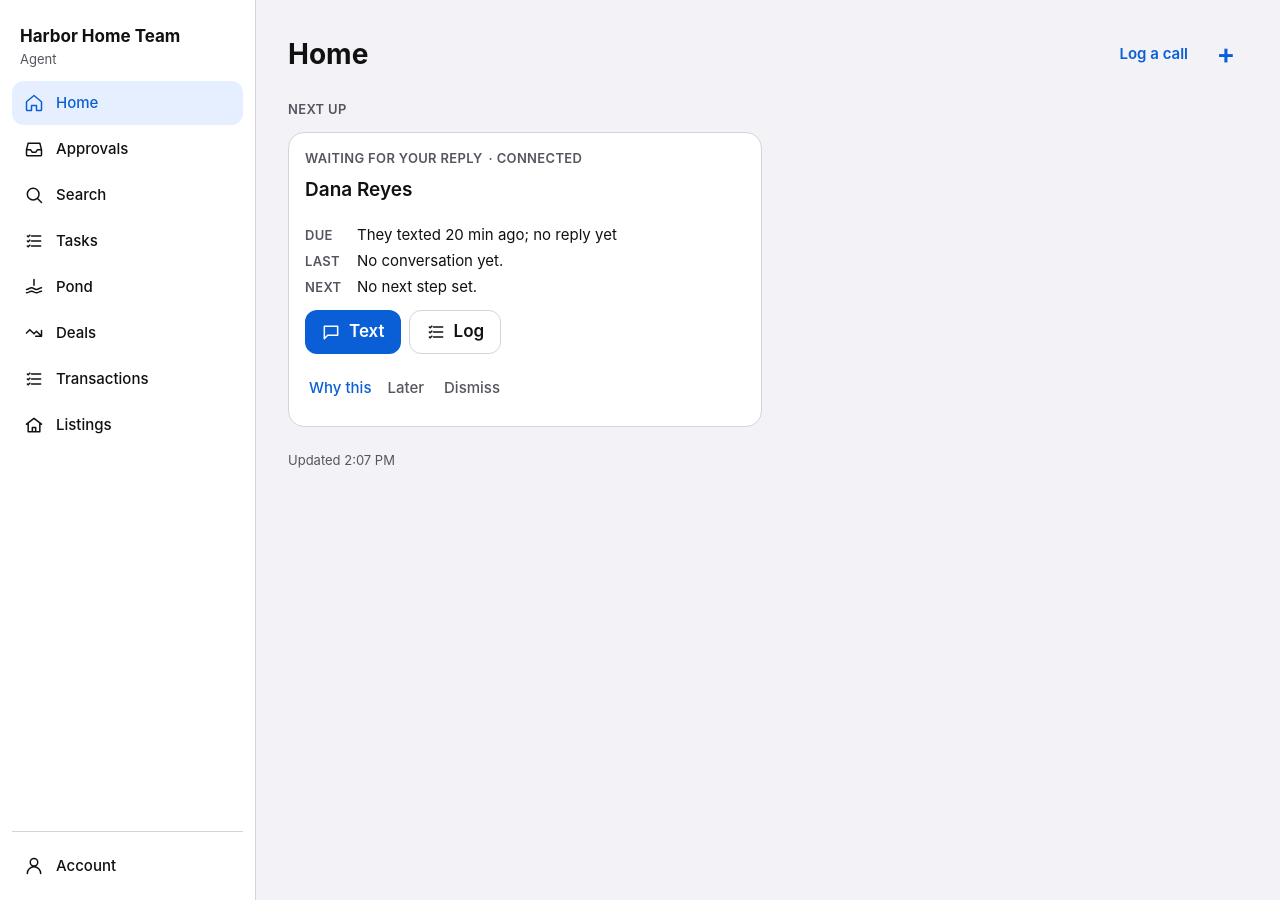
Scenario: R-TODAY-8: plain words while a thing loads, when it fails, and when there is nothing › the Log sheet says what it is in its first line, where it opens: something outside the app, shown as logged by you, not counted as reaching them
Click the button with aria-label "Log for Dana Reyes".
click(455, 332)  # box [408,310,501,354]
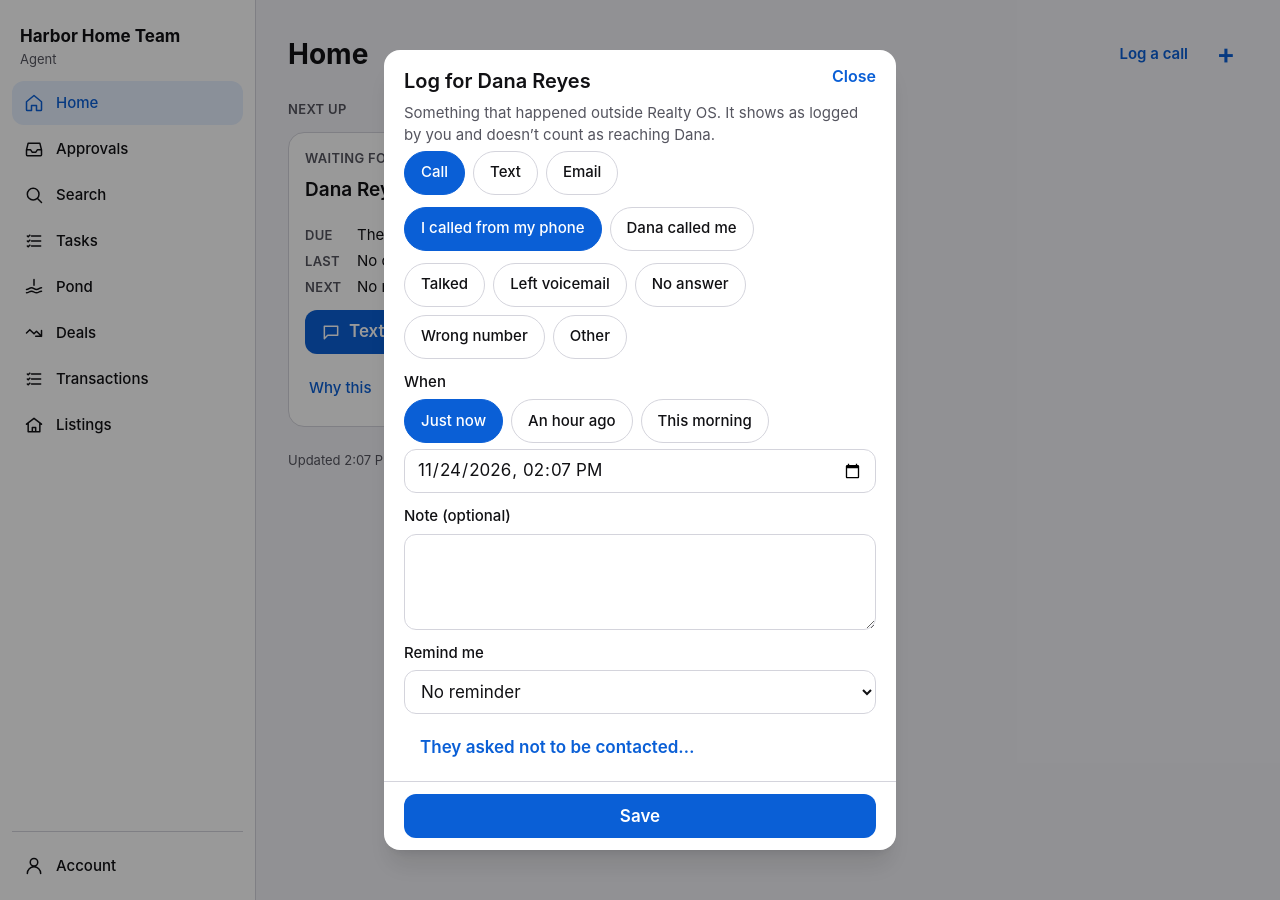
Expected: the element named "What happened" is shown, [404,151,618,195]
Expected: the element named "Direction" is shown, [404,207,754,251]
Expected: the element named "Outcome" is shown, [404,263,746,359]
